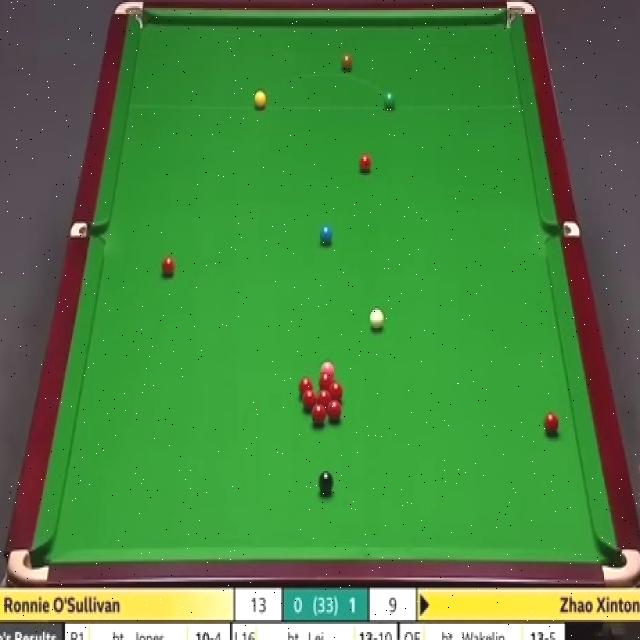black-ball: (317, 469, 333, 497)
blue-ball: (318, 224, 333, 247)
brown-ball: (341, 53, 354, 73)
green-ball: (382, 91, 398, 112)
pink-ball: (320, 360, 336, 373)
red-ball: (543, 412, 560, 438), (160, 256, 176, 278), (327, 401, 342, 424), (298, 377, 313, 398), (312, 404, 326, 426), (328, 382, 342, 403), (319, 372, 335, 389), (316, 388, 331, 406), (359, 153, 372, 173), (303, 391, 316, 410), (253, 521, 254, 521)
white-ball: (368, 309, 386, 335)
yellow-ball: (254, 90, 266, 110)
